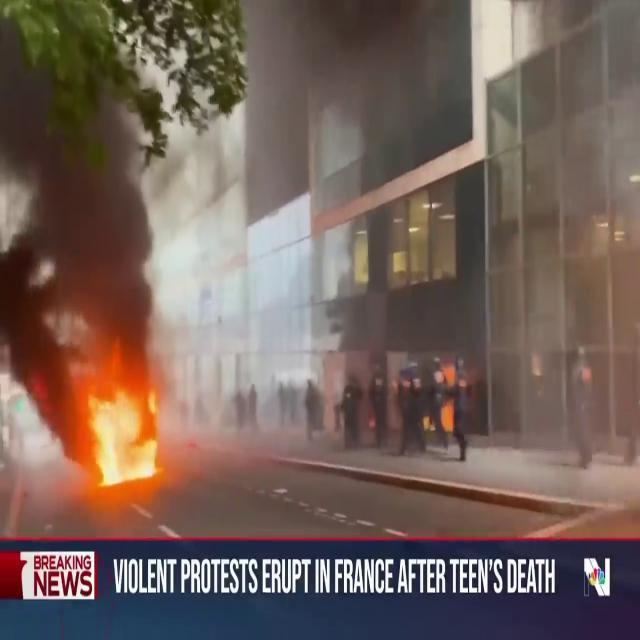Fire: (66, 370, 169, 495)
Smoke: (459, 1, 640, 476), (0, 2, 186, 399)
